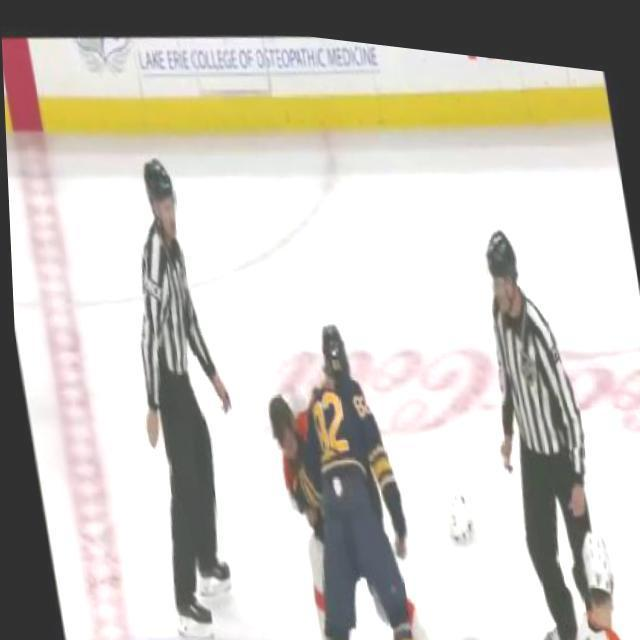fight: (248, 300, 434, 640)
